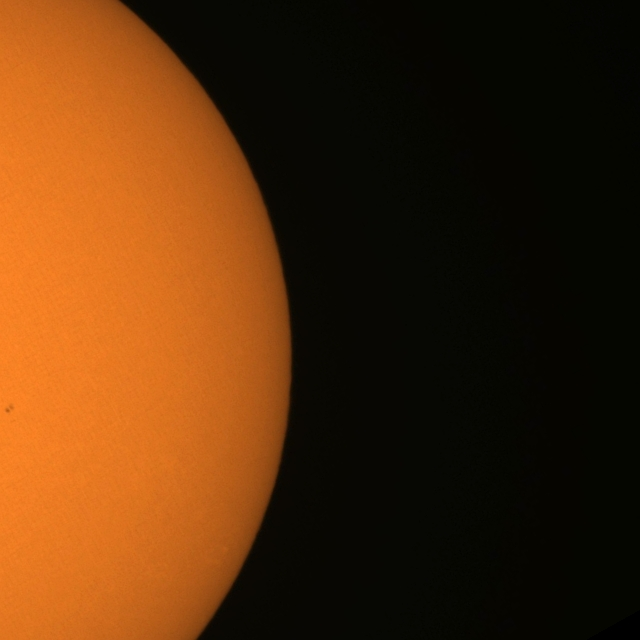sunspot: (4, 403, 15, 414)
